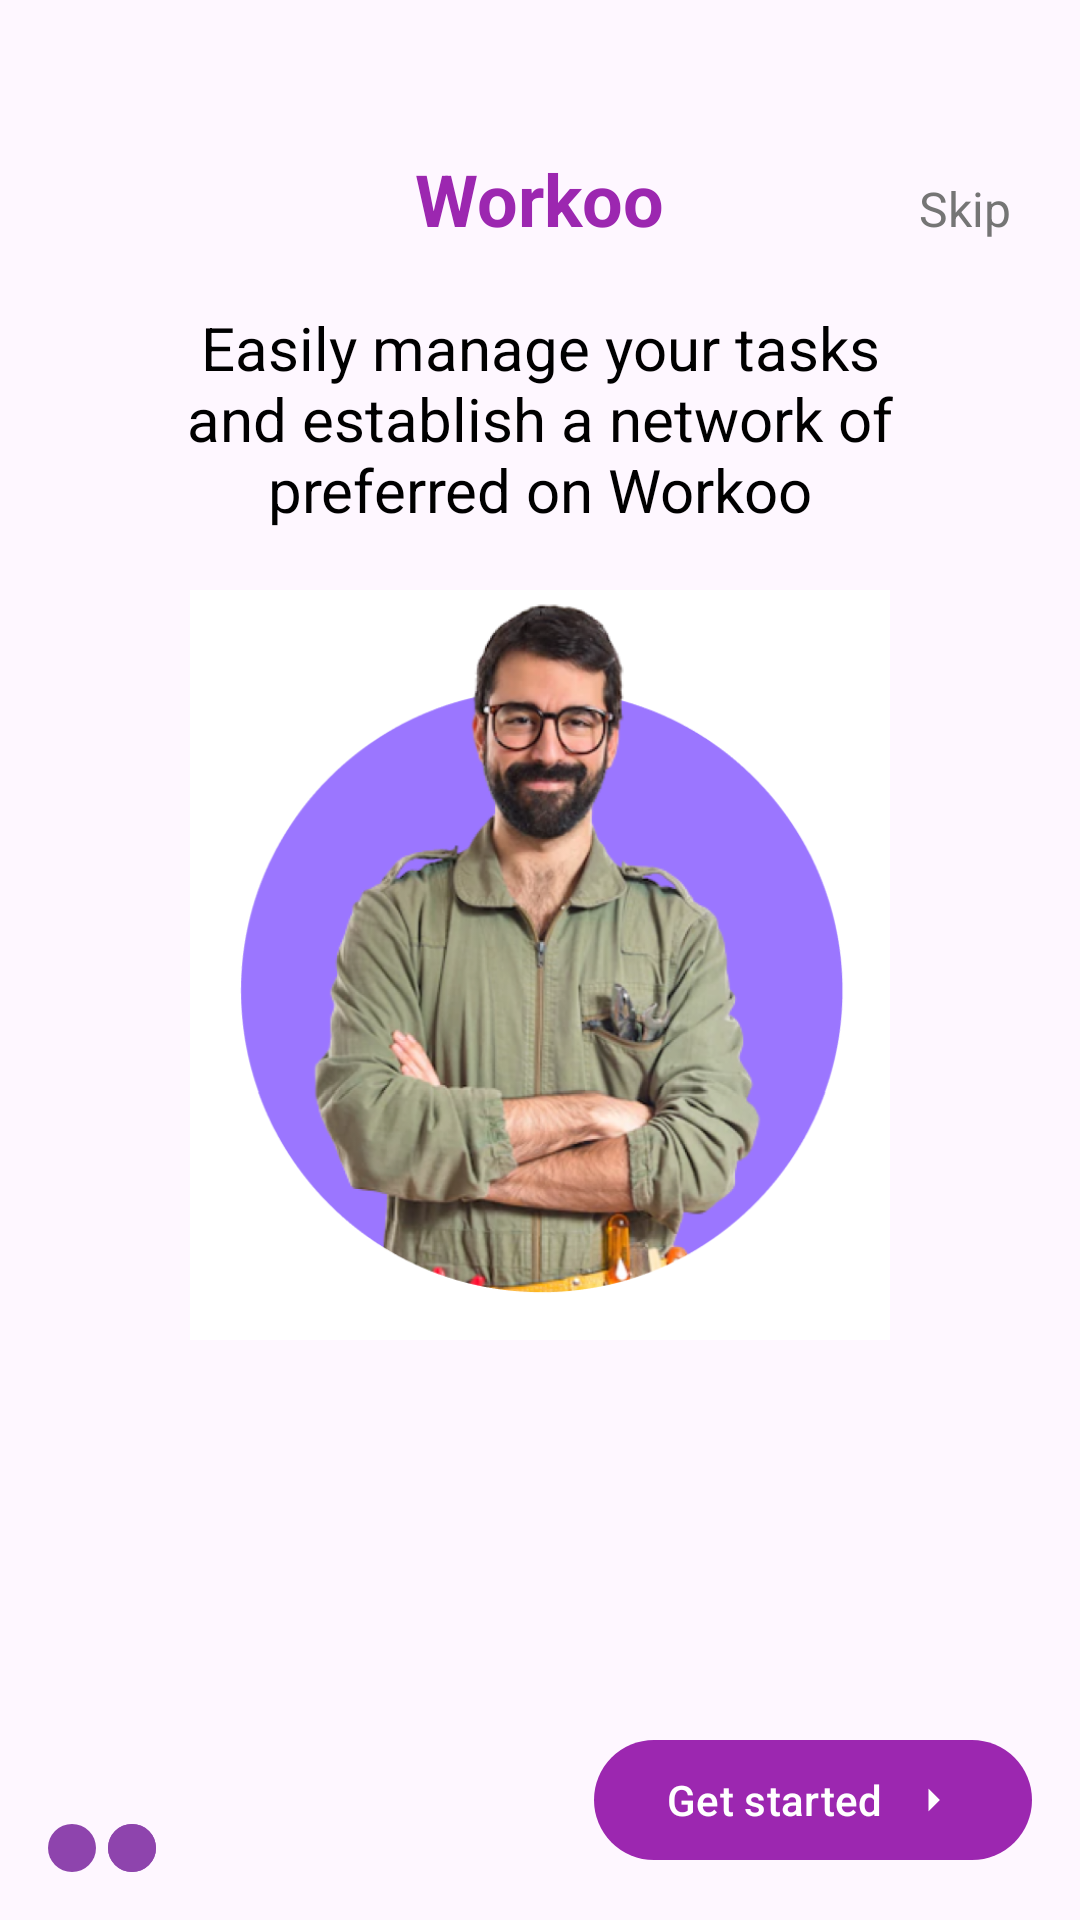

Where to tap for icons on this 1080w x 1920h app screen, as [x,y]:
dots: [102,1848]
